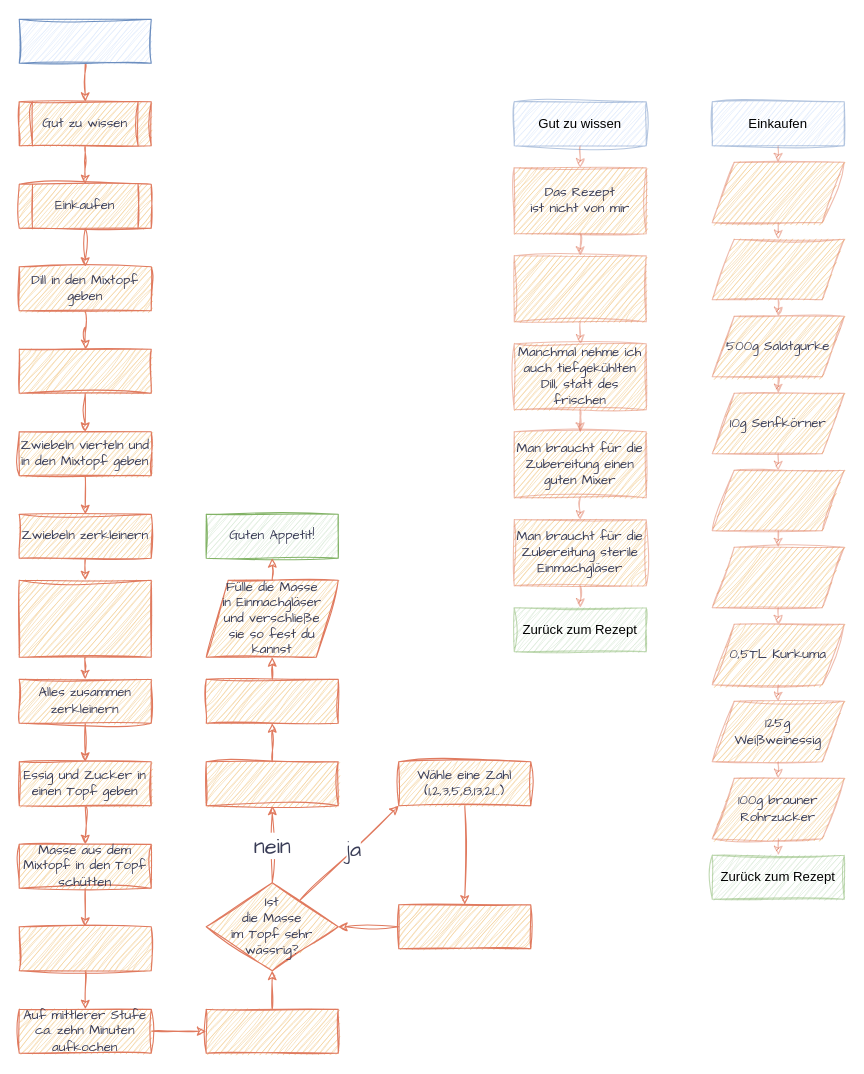
Some shapes in this 864 by 1074 pixel diagram are drawn without their labels. The shapes that lost their labels are listed below. From the top down, each one's box as (x1, y1, x2, y2) in pixels, then its label:
(18, 18, 151, 63): Gurken Relish
(711, 161, 844, 223): 5-6 Stängel Dill abgezupft
(513, 255, 646, 322): Ich nehme statt des normalen Zuckers braunen Rohrzucker
(711, 238, 844, 300): 125g Zwiebel
(18, 348, 151, 393): Dill zerkleinern
(711, 469, 844, 531): 1,5TL Salz
(711, 546, 844, 608): 0,5TL frisch gemahlener Pfeffer
(18, 579, 151, 657): Gurke, Senfkörner, Salz, Pfeffer und Kurkuma in den Mixtopf geben
(205, 678, 338, 723): Leere die Einmachgläser
(205, 761, 338, 806): Schalte den Herd aus
(398, 904, 531, 949): Warte deine vorher gewählte Zahl in Minuten
(18, 926, 151, 971): Herd einschalten und alles zum Kochen bringen
(205, 1008, 338, 1053): sterile Einmachgläser mit heißem Wasser füllen
